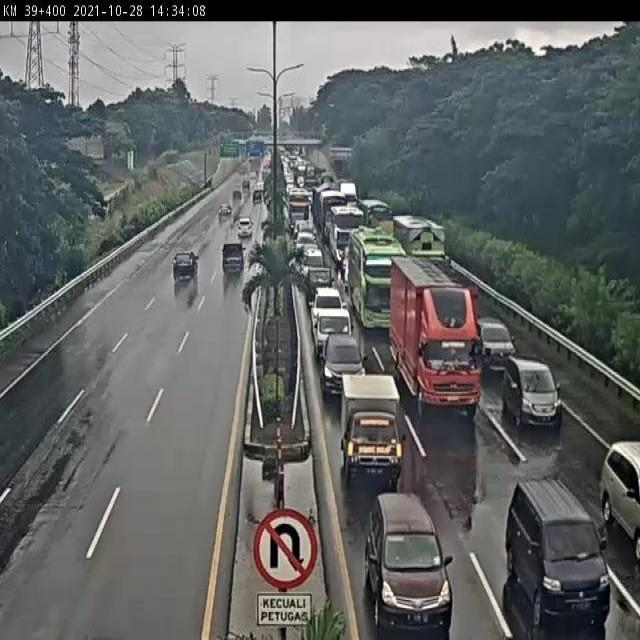bus-l-: (348, 228, 401, 329), (328, 207, 364, 264), (362, 198, 391, 225)
car: (500, 484, 613, 628), (364, 492, 455, 633), (338, 368, 404, 477), (587, 420, 640, 541), (501, 354, 562, 426), (469, 319, 516, 368), (320, 331, 361, 386), (313, 303, 352, 357), (305, 268, 337, 308), (299, 241, 326, 279), (307, 283, 346, 308), (220, 242, 247, 278), (172, 248, 197, 284), (296, 228, 315, 251)
truck-l-: (389, 256, 481, 415), (392, 212, 456, 284)
